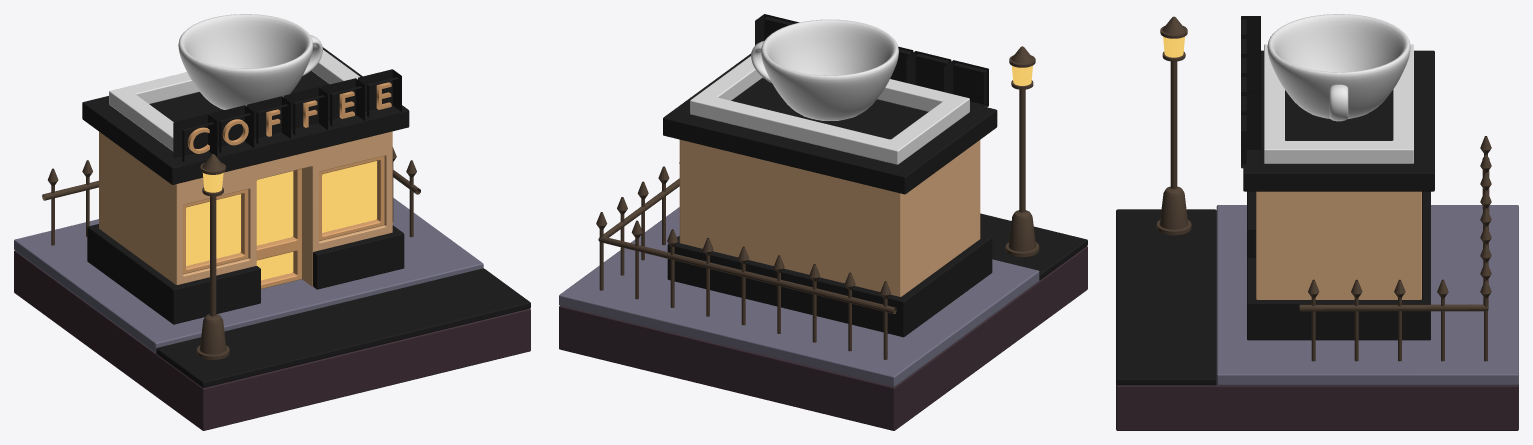
Rendered from CoffeeHouse Isometric.glb.
3 renders of one model, left to right at view 1: azimuth 30°, elevation 25°; view 2: azimuth 150°, elevation 25°; view 3: azimuth 270°, elevation 25°, orthographic. The views are drawn at different scales.
Parts seen in each view (by area): view 1: Building, Ground, Road, Foundation, Facade, Cup, Roof, Roof External, Windows, Lamp, Door, Letter C (+7 smaller); view 2: Building, Foundation, Ground, Roof, Facade, Cup, Roof External, Vertical Wire, Road, Lamp, Horizontal Wire, Letter C (+2 smaller); view 3: Foundation, Ground, Building, Road, Roof, Cup, Facade, Roof External, Lamp, Vertical Wire, Horizontal Wire, Letter E (+4 smaller).
Boxes of the visible parts, x1,y1,x2,y2 form: Building: [99, 131, 392, 286]; Ground: [14, 250, 530, 430]; Road: [156, 268, 530, 387]; Foundation: [14, 198, 483, 353]; Facade: [87, 224, 404, 324]; Cup: [178, 14, 313, 109]; Roof: [82, 47, 409, 184]; Roof External: [109, 50, 359, 151]; Windows: [183, 156, 384, 274]; Lamp: [196, 154, 229, 359]; Door: [256, 169, 301, 288]; Letter C: [173, 114, 217, 165]; Building: [679, 139, 980, 296]; Foundation: [559, 207, 1039, 386]; Ground: [559, 246, 1087, 430]; Roof: [663, 53, 997, 194]; Facade: [667, 234, 992, 337]; Cup: [761, 19, 898, 120]; Roof External: [690, 56, 969, 164]; Vertical Wire: [596, 162, 890, 359]; Road: [980, 213, 1087, 280]; Lamp: [1005, 46, 1039, 257]; Horizontal Wire: [598, 178, 896, 313]; Letter C: [944, 60, 988, 112]; Foundation: [1216, 205, 1518, 385]; Ground: [1116, 384, 1518, 430]; Building: [1256, 191, 1421, 299]; Road: [1116, 209, 1216, 385]; Roof: [1243, 50, 1434, 191]; Cup: [1267, 14, 1410, 119]; Facade: [1247, 191, 1430, 340]; Roof External: [1264, 44, 1413, 163]; Lamp: [1156, 16, 1191, 235]; Vertical Wire: [1308, 136, 1491, 361]; Horizontal Wire: [1299, 157, 1489, 311]; Letter E: [1241, 111, 1260, 168].
Size of what is drawn, in the model's own units: 8 by 6.45 by 8.
